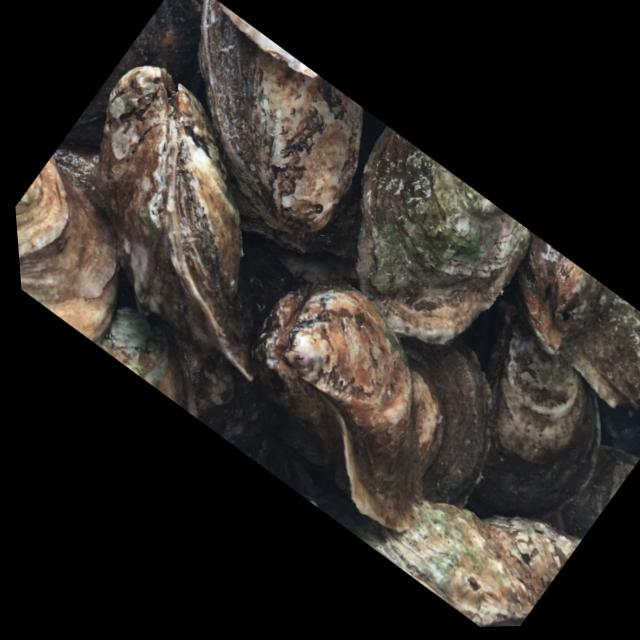Oyster-Closed: (91, 303, 196, 418)
Oyster-Indeterminate: (95, 67, 261, 380), (198, 0, 363, 235), (355, 126, 530, 346), (281, 277, 422, 530), (340, 501, 582, 627), (465, 301, 601, 520), (509, 232, 640, 408), (251, 289, 351, 497), (61, 0, 201, 146), (19, 168, 119, 338), (394, 335, 492, 508), (545, 445, 640, 541), (218, 2, 319, 78), (164, 321, 232, 422), (15, 156, 67, 258)
